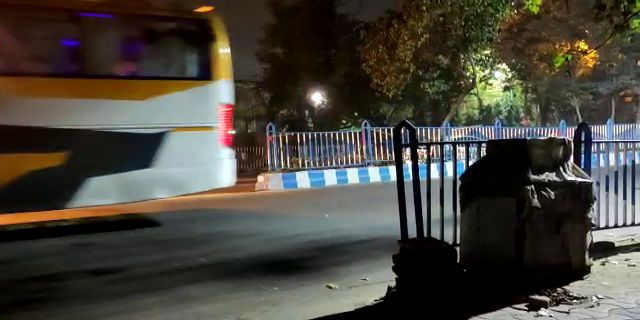Bus: (10, 1, 252, 219)
